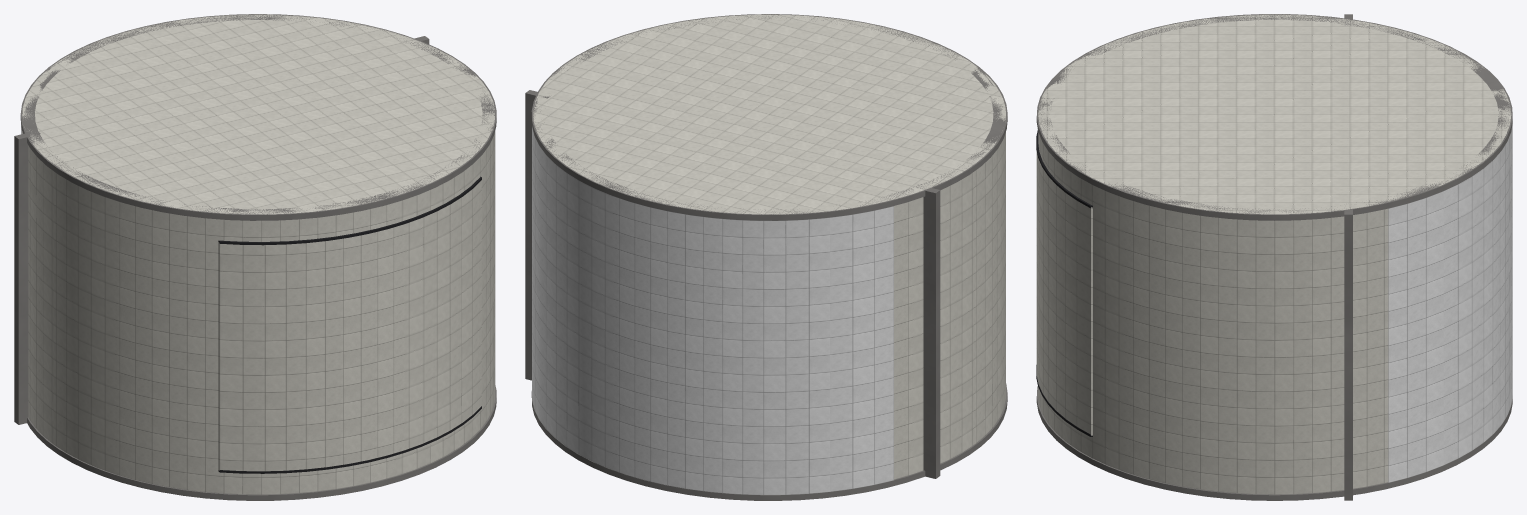
Rendered from aero02_mk3_fuselage_service_250.glb.
3 views of the same model, side by side, from view 1: azimuth 30°, elevation 25°; view 2: azimuth 150°, elevation 25°; view 3: azimuth 270°, elevation 25° (orthographic).
Parts seen in each view (by area): view 1: fuselage, door, end_frames, chines, door_seams; view 2: fuselage, belly_tiles, end_frames, chines; view 3: fuselage, belly_tiles, door, end_frames, chines, door_seams.
Boxes of the visible parts, x1,y1,x2,y2 form: fuselage: (22,14,495,494); door: (218,180,481,471); end_frames: (20,14,496,500); chines: (14,36,429,424); door_seams: (218,176,481,473); fuselage: (533,14,1005,479); belly_tiles: (532,127,893,494); end_frames: (531,14,1007,500); chines: (525,90,940,478); fuselage: (1038,14,1511,494); belly_tiles: (1388,124,1512,482); door: (1036,152,1092,435); end_frames: (1036,14,1512,500); chines: (1344,14,1352,500); door_seams: (1036,130,1092,436).
Bounding box in the file's own units: 3.77 × 2.5 × 3.78.
Materials: 4 (3 with a texture image).
